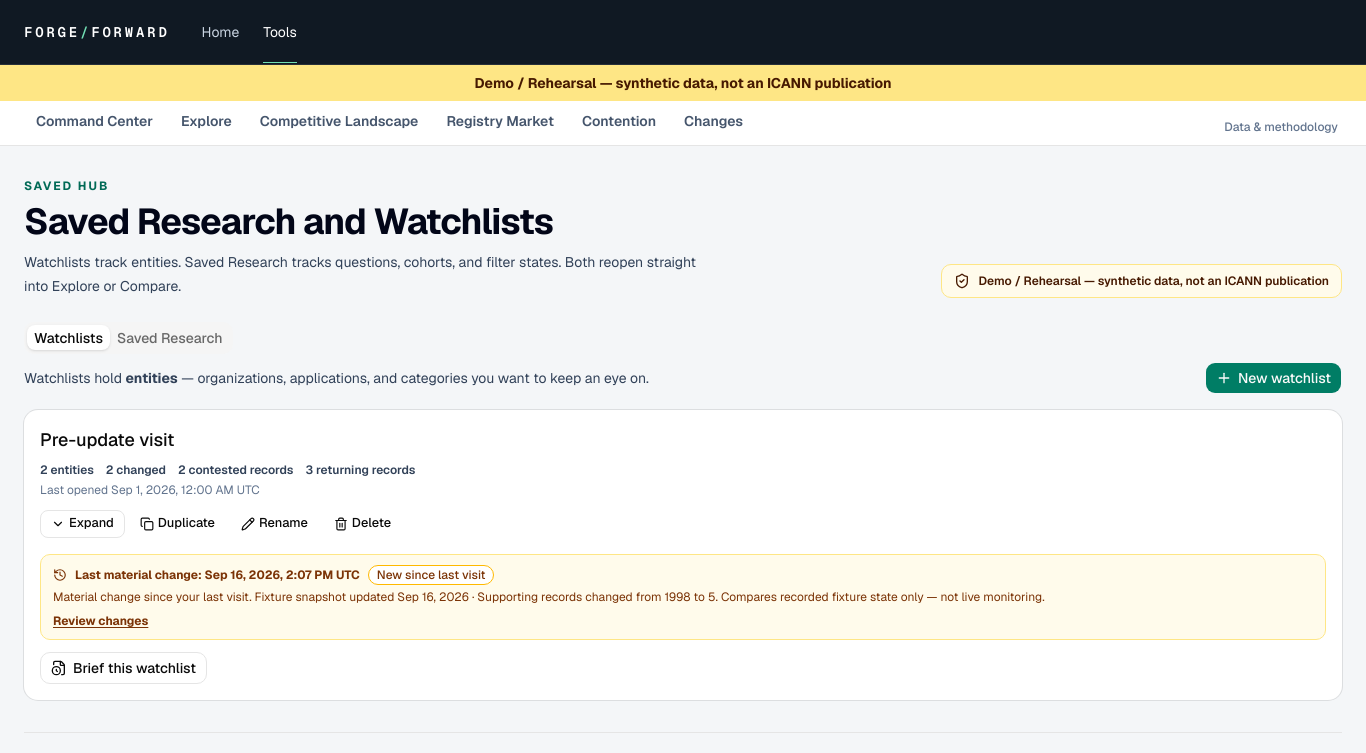
it: Saved hub — changes since last visit › makes Last material change the central watchlist card state, phrases counts as supporting records (never an entity count), and exposes a bounded Review changes
expect the text "Last material change: Sep 16, 2026, 2:07 PM UTC" is shown: met, box [75,566,360,582]
expect the text "New since last visit" is shown: met, box [368,564,494,584]
What coordinates should you click on to do the following:
click the button "Review changes"
I would click on:
 (101, 620)
Its box is [53,612,148,628].
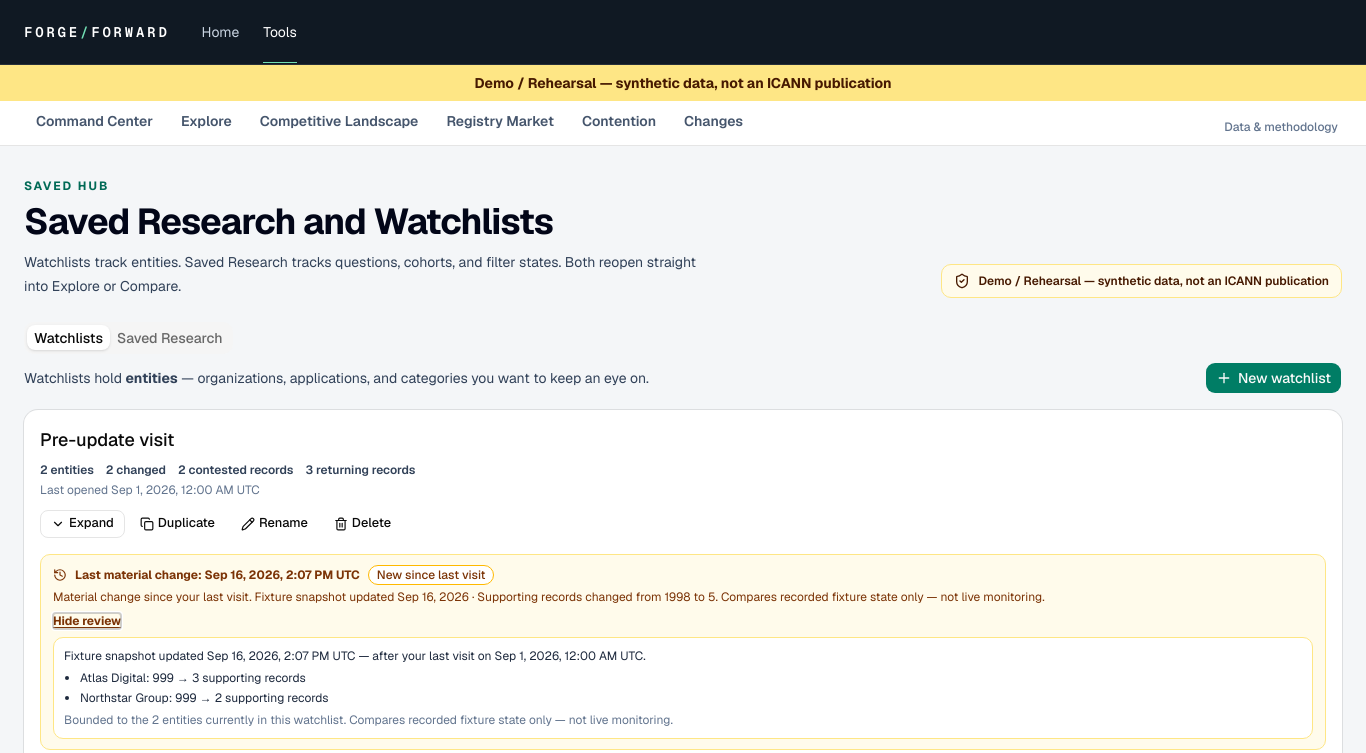
expect the text "Bounded to the 2 entities currently in this watchlist" is shown: met, box [64,712,673,728]
